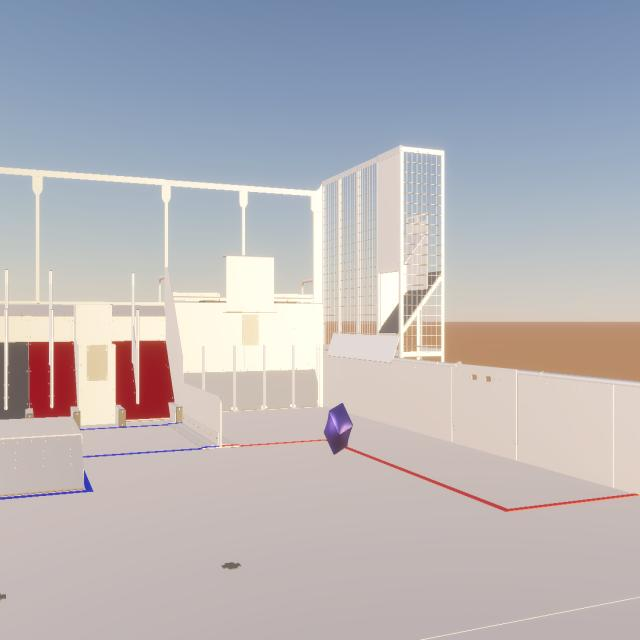frc_cube: (324, 403, 353, 454)
